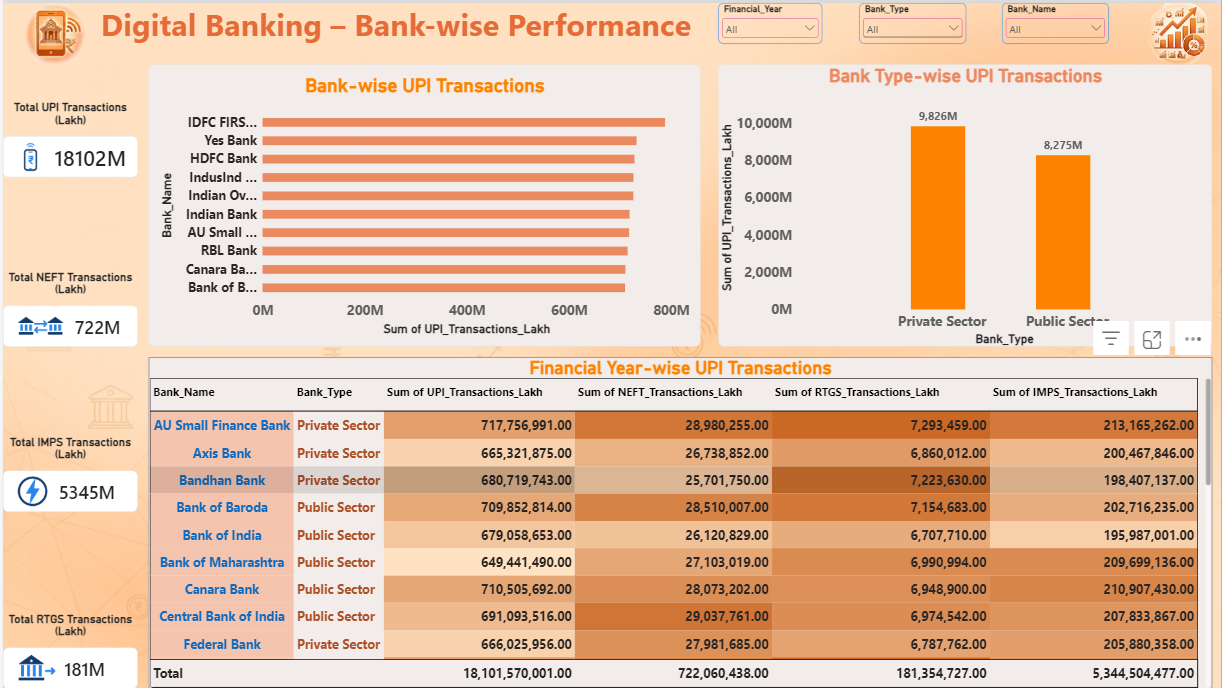

What the dashboard file says about the page in this screenshot:
{"tool":"powerbi","page":{"name":"Bank Analysis","canvas":[1920,1080],"ordinal":1},"visuals":[{"type":"clusteredBarChart","fields":{"Category":["dataset_2_3cleaned.Bank_Name"],"Y":["Sum(dataset_2_3cleaned.UPI_Transactions_Lakh)"]},"box":[229.2,96.9,869.4,444.2],"z":0},{"type":"clusteredColumnChart","fields":{"Category":["dataset_2_3cleaned.Bank_Type"],"Y":["Sum(dataset_2_3cleaned.UPI_Transactions_Lakh)"]},"box":[1127,96.9,777.3,444.2],"z":1000},{"type":"tableEx","fields":{"Values":["dataset_2_3cleaned.Bank_Name","dataset_2_3cleaned.Bank_Type","Sum(dataset_2_3cleaned.UPI_Transactions_Lakh)","Sum(dataset_2_3cleaned.NEFT_Transactions_Lakh)","Sum(dataset_2_3cleaned.RTGS_Transactions_Lakh)","Sum(dataset_2_3cleaned.IMPS_Transactions_Lakh)"]},"box":[229.2,557.6,1675.1,522.1],"z":2000},{"type":"slicer","fields":{"Values":["dataset_2_3cleaned.Financial_Year"]},"box":[1127,0,163,63.8],"z":3000},{"type":"slicer","fields":{"Values":["dataset_2_3cleaned.Bank_Type"]},"box":[1349.1,0,167.7,63.8],"z":4000},{"type":"slicer","fields":{"Values":["dataset_2_3cleaned.Bank_Name"]},"box":[1573.5,0,167.7,63.8],"z":5000},{"type":"cardVisual","title":"Total UPI Transactions (Lakh)","fields":{"Data":["dataset_2_3cleaned.Total UPI Transactions"]},"box":[0,153.6,212.7,121.5],"z":6000},{"type":"cardVisual","title":"Total NEFT Transactions (Lakh)","fields":{"Data":["dataset_2_3cleaned.Total NEFT Transactions"]},"box":[0,420.5,212.7,121.5],"z":7000},{"type":"cardVisual","title":"Total RTGS Transactions (Lakh)","fields":{"Data":["dataset_2_3cleaned.Total RTGS Transactions"]},"box":[0,959.2,212.7,121.5],"z":8000},{"type":"cardVisual","title":"Total IMPS Transactions (Lakh)","fields":{"Data":["dataset_2_3cleaned.Total IMPS Transactions"]},"box":[0,680.4,212.7,121.5],"z":9000},{"type":"textbox","box":[139.4,0,959.2,63.8],"z":10000},{"type":"image","box":[0,0,163,96.9],"z":11000},{"type":"image","box":[1781.4,0,139.4,96.9],"z":12000}]}

Visuals, with their boxes in screenshot pixels (x1, y1, x2, y2), scaled from the page's 1920x1080 canvas onto the 1222x688 screenshot:
clusteredBarChart - dataset_2_3cleaned.Bank_Name x Sum(dataset_2_3cleaned.UPI_Transactions_Lakh): x1=146 y1=62 x2=699 y2=345
clusteredColumnChart - dataset_2_3cleaned.Bank_Type x Sum(dataset_2_3cleaned.UPI_Transactions_Lakh): x1=717 y1=62 x2=1212 y2=345
tableEx - dataset_2_3cleaned.Bank_Name x dataset_2_3cleaned.Bank_Type: x1=146 y1=355 x2=1212 y2=687
slicer - dataset_2_3cleaned.Financial_Year: x1=717 y1=0 x2=821 y2=41
slicer - dataset_2_3cleaned.Bank_Type: x1=859 y1=0 x2=965 y2=41
slicer - dataset_2_3cleaned.Bank_Name: x1=1001 y1=0 x2=1108 y2=41
"Total UPI Transactions (Lakh)" cardVisual: x1=0 y1=98 x2=135 y2=175
"Total NEFT Transactions (Lakh)" cardVisual: x1=0 y1=268 x2=135 y2=345
"Total RTGS Transactions (Lakh)" cardVisual: x1=0 y1=611 x2=135 y2=687
"Total IMPS Transactions (Lakh)" cardVisual: x1=0 y1=433 x2=135 y2=511
textbox: x1=89 y1=0 x2=699 y2=41
image: x1=0 y1=0 x2=104 y2=62
image: x1=1134 y1=0 x2=1221 y2=62
